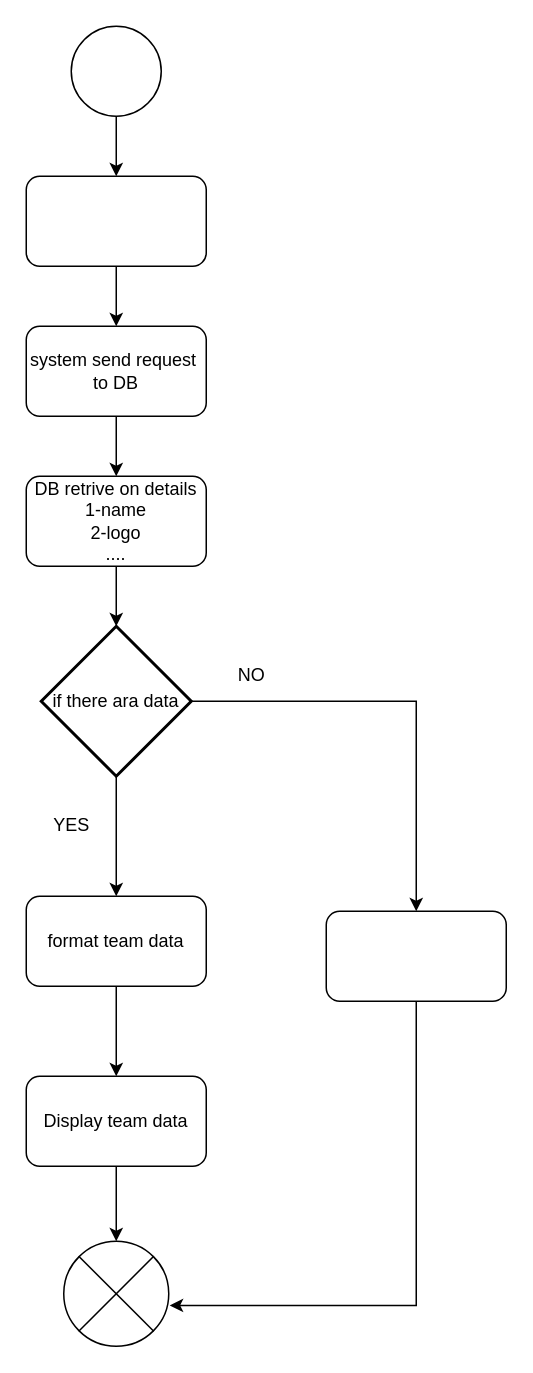
The diagram is 533 pixels wide and 1373 high, and some of its shapes have lost their labels. Here are the shapes that lost their labels. From the top down, the centre of each, then its label:
the point at 115,220: search for team
the point at 415,955: Display not found
